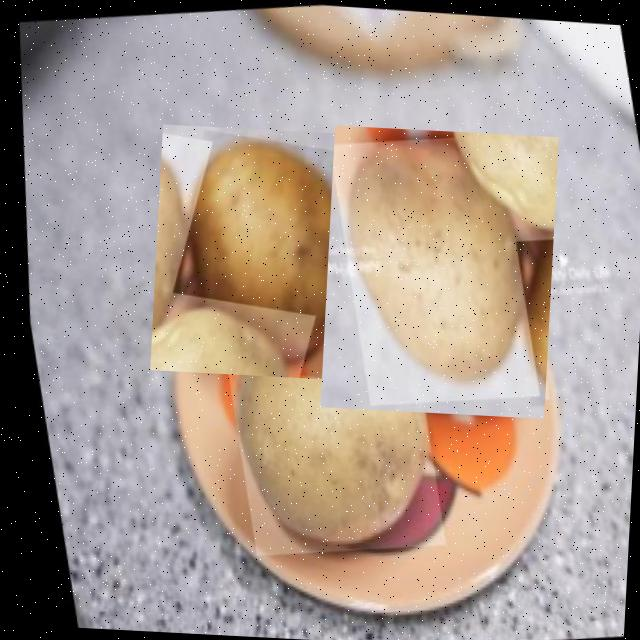Potato: (197, 286, 450, 567), (320, 125, 558, 418), (149, 124, 390, 382)
